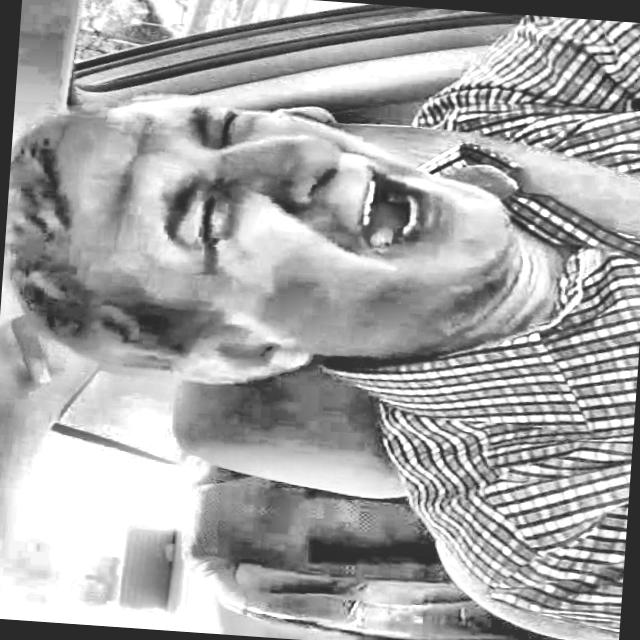closed_eyes: (171, 185, 240, 266), (199, 101, 264, 157)
open_mouth: (340, 153, 448, 276)
